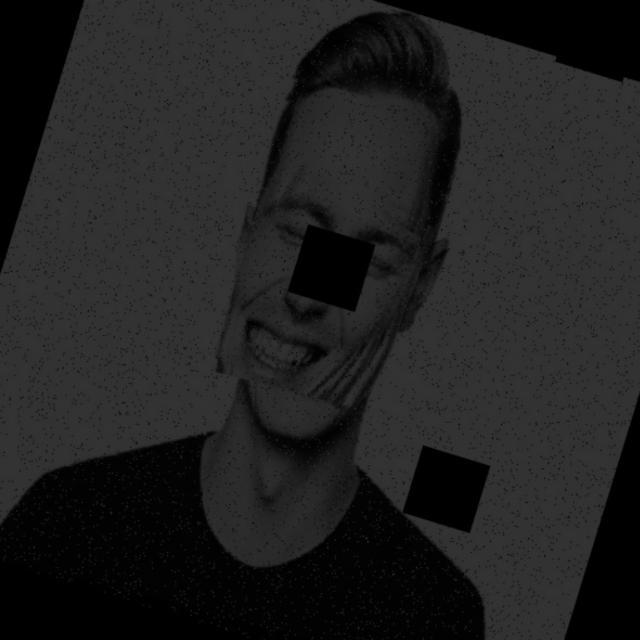Happy: (196, 110, 464, 510)
